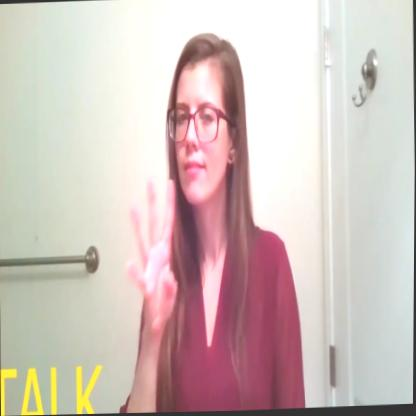Talk: (122, 32, 252, 343)
